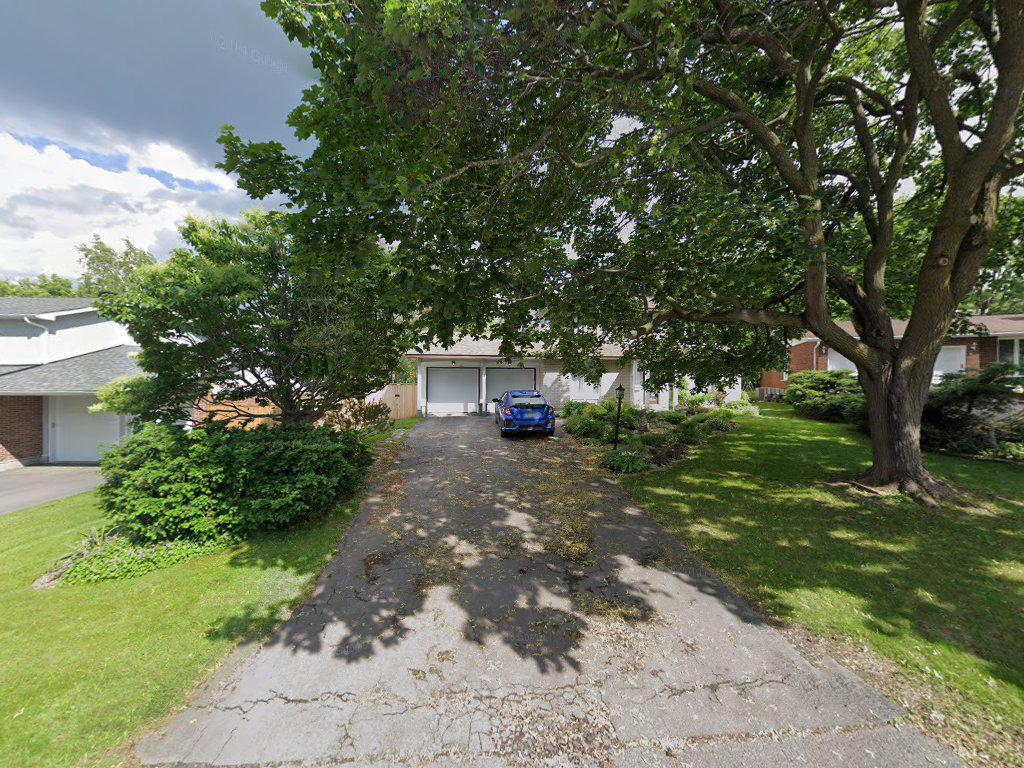trunk: (853, 287, 958, 524)
